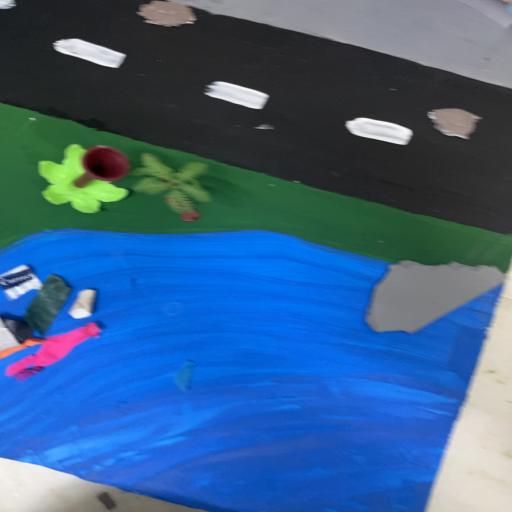encroachment: (366, 261, 506, 333)
fallen trees: (33, 143, 138, 211)
porthole: (422, 105, 493, 141), (139, 0, 199, 29)
trash: (0, 262, 105, 386)
